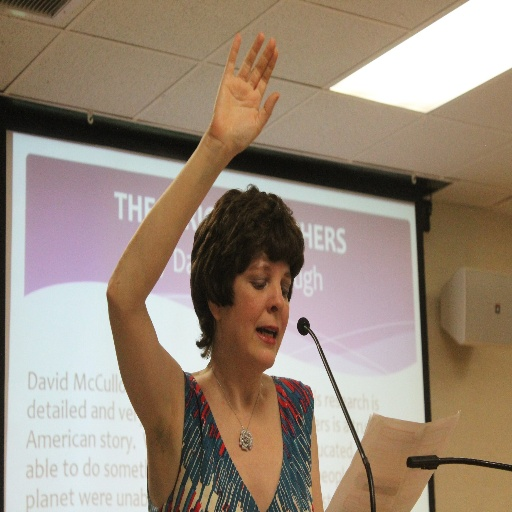hand: (152, 38, 289, 213)
